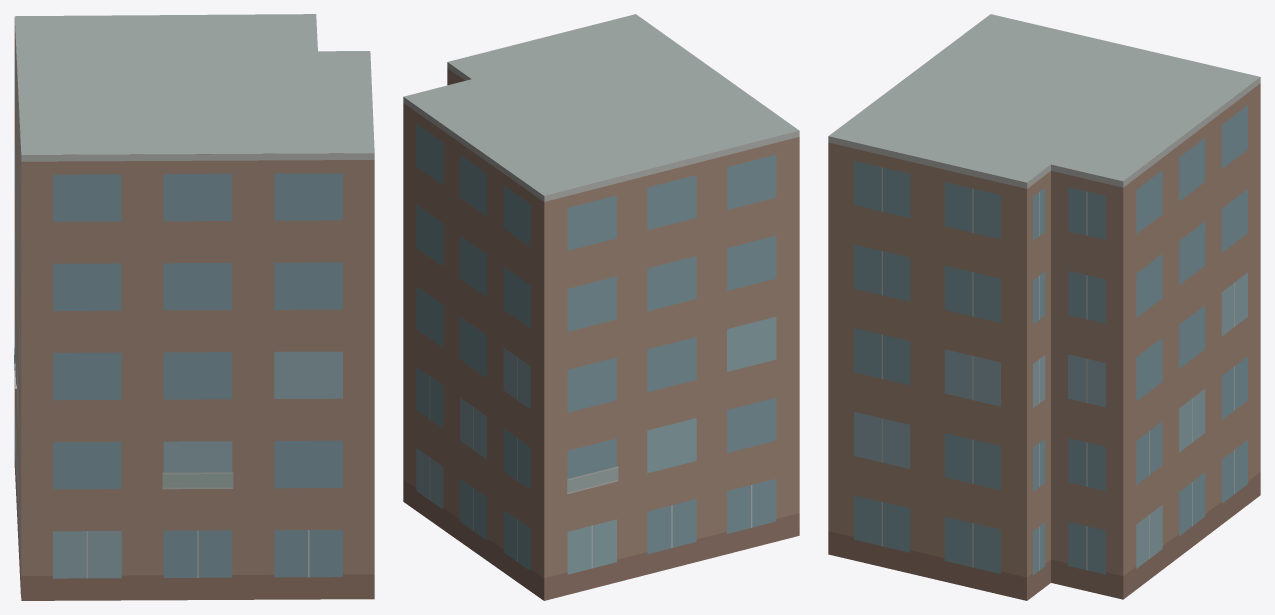
The model's file is survey-upis-32722732.glb.
3 views of the same model, side by side, from view 1: azimuth 30°, elevation 25°; view 2: azimuth 150°, elevation 25°; view 3: azimuth 270°, elevation 25° (orthographic). The views are drawn at different scales.
Parts seen in each view (by area): view 1: survey-upis-32722732.tmp; view 2: survey-upis-32722732.tmp; view 3: survey-upis-32722732.tmp.
Boxes of the visible parts, left/top/right/bottom form: survey-upis-32722732.tmp: left=14, top=14, right=374, bottom=600; survey-upis-32722732.tmp: left=403, top=14, right=799, bottom=600; survey-upis-32722732.tmp: left=828, top=14, right=1260, bottom=600.
Size of the model in its own units: 14.11 by 16.3 by 15.28.
